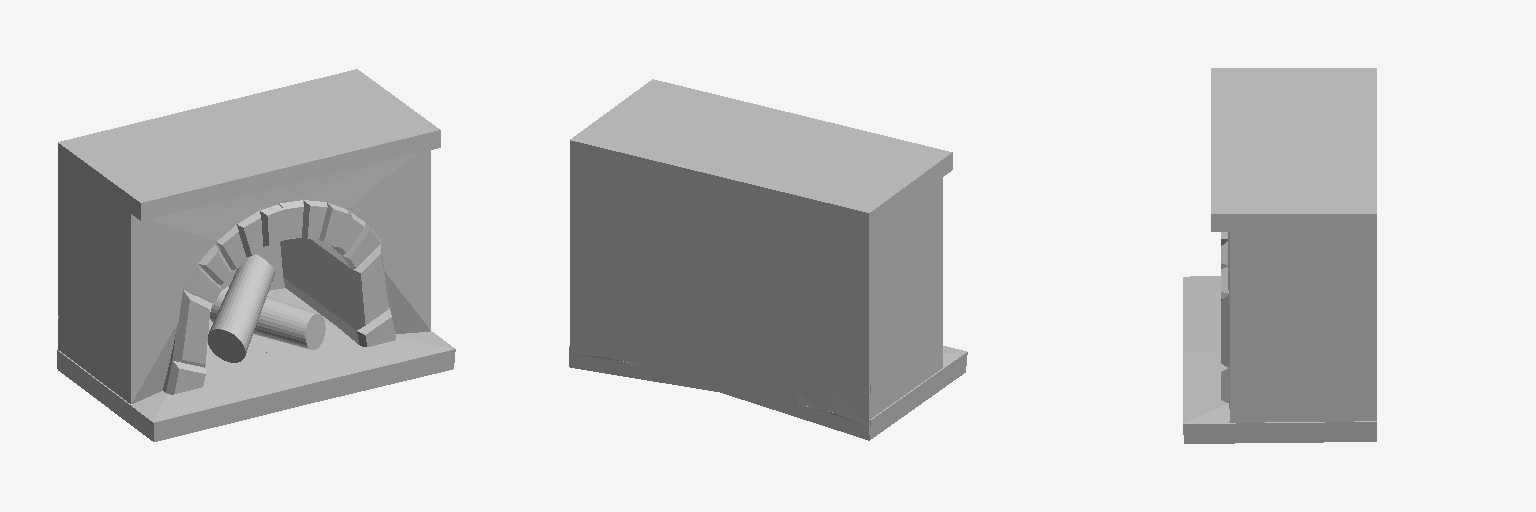
Rendered from sc1_fireplace.obj.
3 views of the same model, side by side, from view 1: azimuth 30°, elevation 25°; view 2: azimuth 150°, elevation 25°; view 3: azimuth 270°, elevation 25° (orthographic).
Parts seen in each view (by area): view 1: fireplace, Cylinder.002, Cylinder.001; view 2: fireplace; view 3: fireplace.
Part boxes in pixels (x1,y1,x2,y2): fireplace: (57,69,455,441); Cylinder.002: (208,254,274,362); Cylinder.001: (210,286,325,349); fireplace: (569,79,967,440); fireplace: (1183,68,1376,443).
Size of the model in its own units: 4.75 by 3.45 by 2.65.